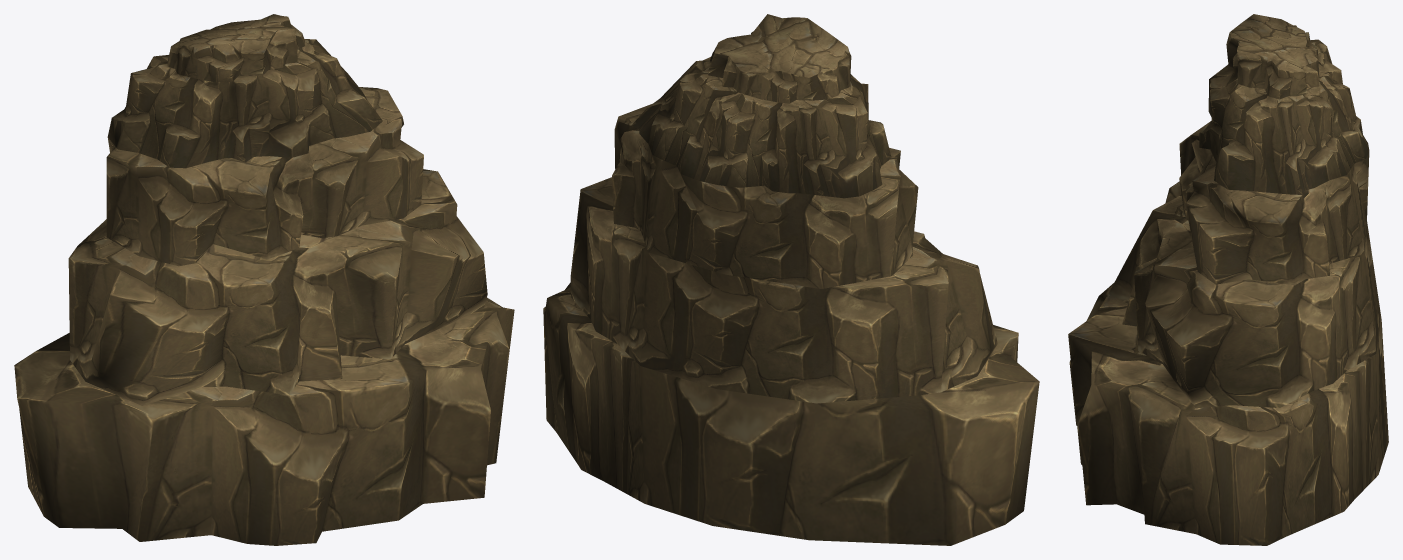
The model's file is D_dimian010.fbx.
3 views of the same model, side by side, from view 1: azimuth 30°, elevation 25°; view 2: azimuth 150°, elevation 25°; view 3: azimuth 270°, elevation 25° (orthographic). The views are drawn at different scales.
Visible parts, largest first — view 1: D_dimian010; view 2: D_dimian010; view 3: D_dimian010.
Part boxes in pixels (x1,y1,x2,y2): D_dimian010: [14, 14, 514, 545]; D_dimian010: [543, 14, 1039, 545]; D_dimian010: [1068, 14, 1388, 545].
Bounding box in the file's own units: 1917 × 1715 × 1224.
